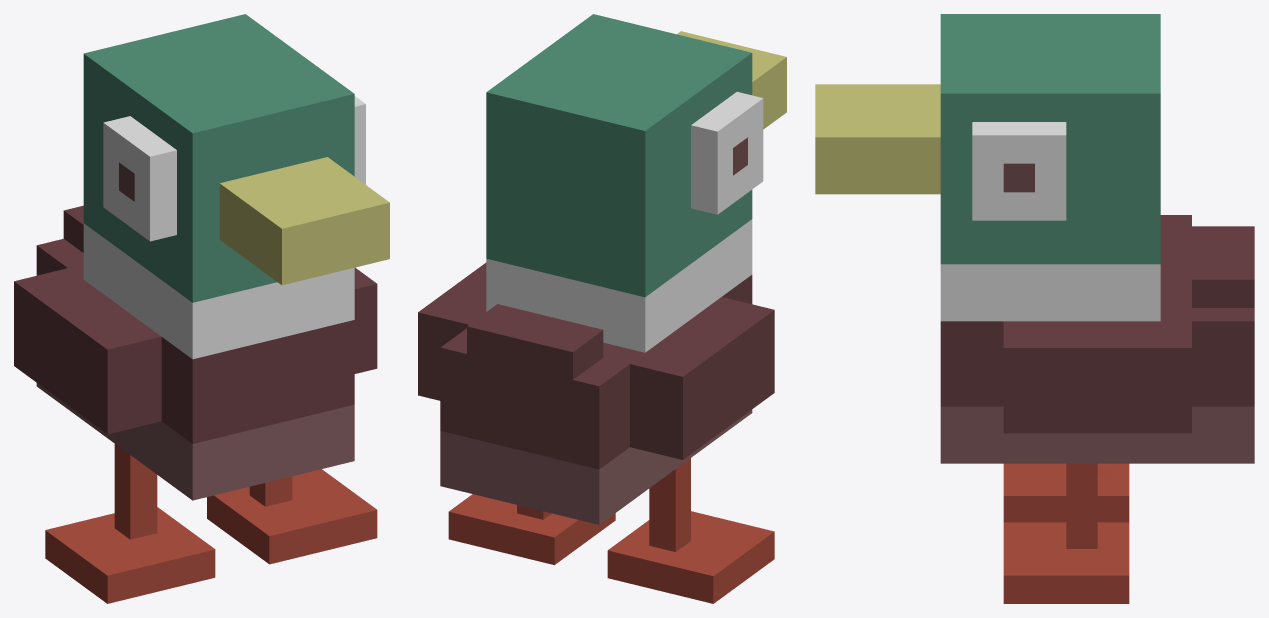
File: MallardV1.fbx
The picture shows the model from 3 angles, left to right: view 1: azimuth 30°, elevation 25°; view 2: azimuth 150°, elevation 25°; view 3: azimuth 270°, elevation 25°; orthographic projection. The views are drawn at different scales.
Parts seen in each view (by area): view 1: duck_optimised_0; view 2: duck_optimised_0; view 3: duck_optimised_0.
Part boxes in pixels (left/top/right/bottom): duck_optimised_0: left=14, top=14, right=389, bottom=603; duck_optimised_0: left=418, top=14, right=786, bottom=603; duck_optimised_0: left=815, top=14, right=1254, bottom=603.
Size of the model in its own units: 50 by 85 by 70.
